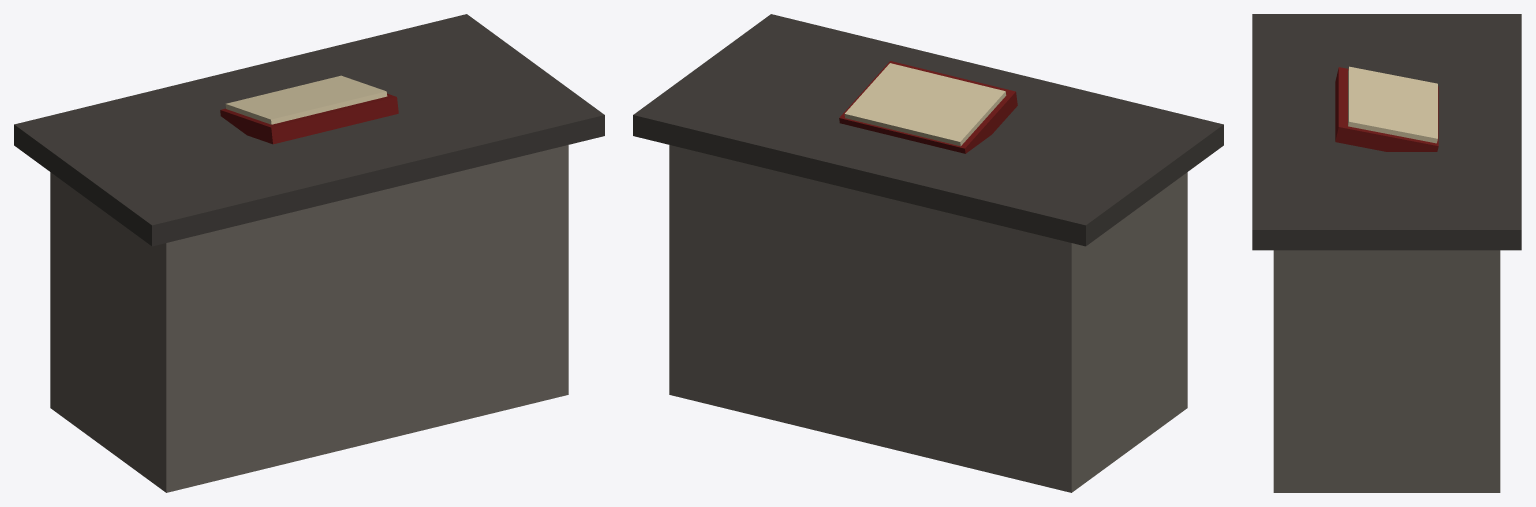
Rendered from altar.glb.
3 renders of one model, left to right at view 1: azimuth 30°, elevation 25°; view 2: azimuth 150°, elevation 25°; view 3: azimuth 270°, elevation 25°, orthographic. The views are drawn at different scales.
Parts seen in each view (by area): view 1: altar; view 2: altar; view 3: altar.
Boxes of the visible parts, box(x1,y1,x2,y2) form: altar: box(14, 14, 604, 492); altar: box(633, 14, 1223, 492); altar: box(1252, 14, 1521, 492).
Size of the model in its own units: 1.8 by 1.18 by 0.95.
